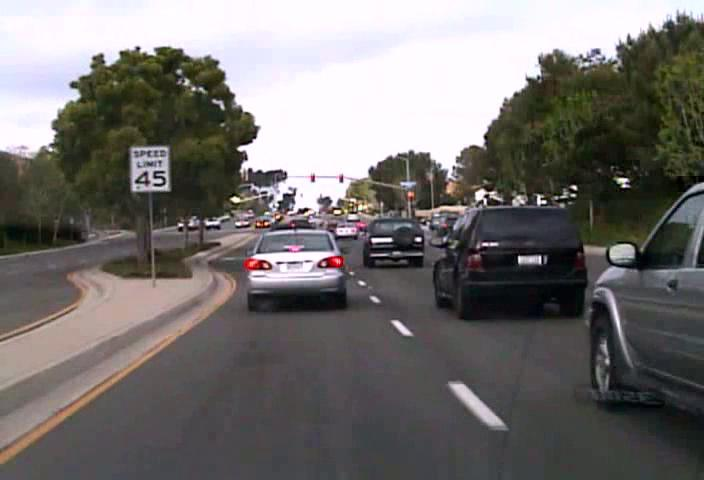speedLimit45: (128, 144, 170, 193)
